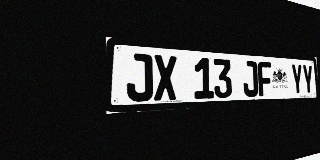1: (193, 57, 214, 99)
3: (213, 58, 232, 98)
F: (257, 61, 272, 96)
J: (126, 53, 153, 102), (242, 60, 258, 97)
X: (153, 55, 178, 101)
Y: (291, 64, 303, 95), (302, 64, 314, 94)
